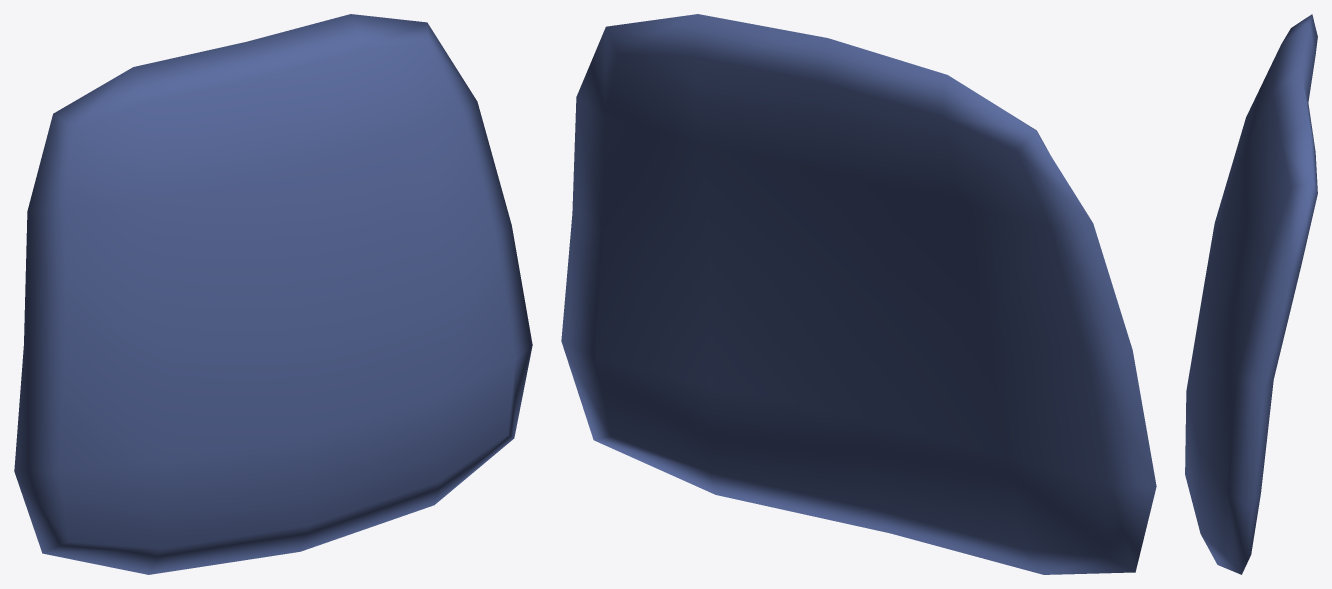
Rendered from cpr-doll-empty-chest-animation.fbx.
3 renders of one model, left to right at view 1: azimuth 30°, elevation 25°; view 2: azimuth 150°, elevation 25°; view 3: azimuth 270°, elevation 25°, orthographic. The views are drawn at different scales.
Parts seen in each view (by area): view 1: Chest Piece; view 2: Chest Piece; view 3: Chest Piece.
Part boxes in pixels (bbox=[...]): Chest Piece: bbox=[14, 14, 532, 574]; Chest Piece: bbox=[561, 14, 1156, 574]; Chest Piece: bbox=[1185, 14, 1317, 574].
Size of the model in its own units: 29.14 by 25.28 by 6.99.
